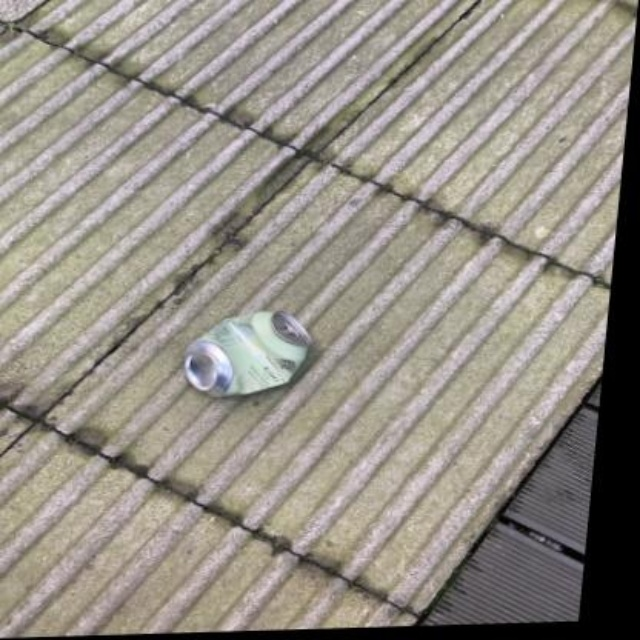trash: (185, 311, 311, 394)
